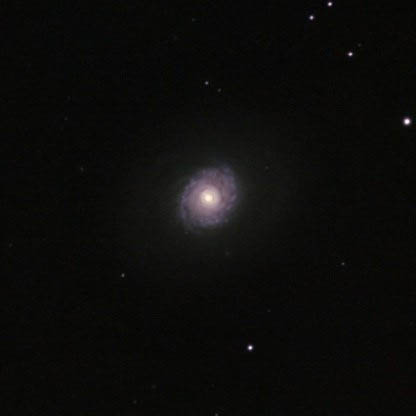Messier 94: (140, 143, 290, 249)
